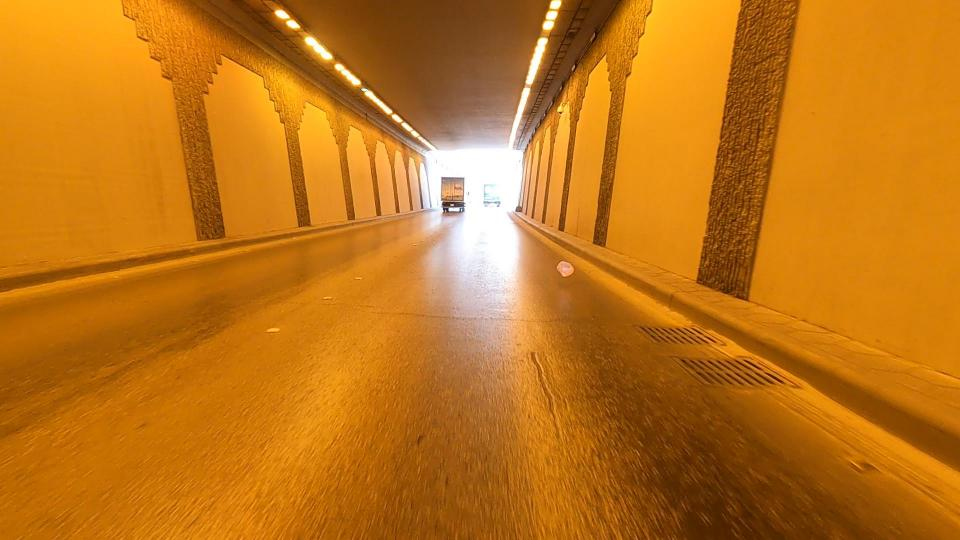GARBAGE: (510, 235, 602, 306)
